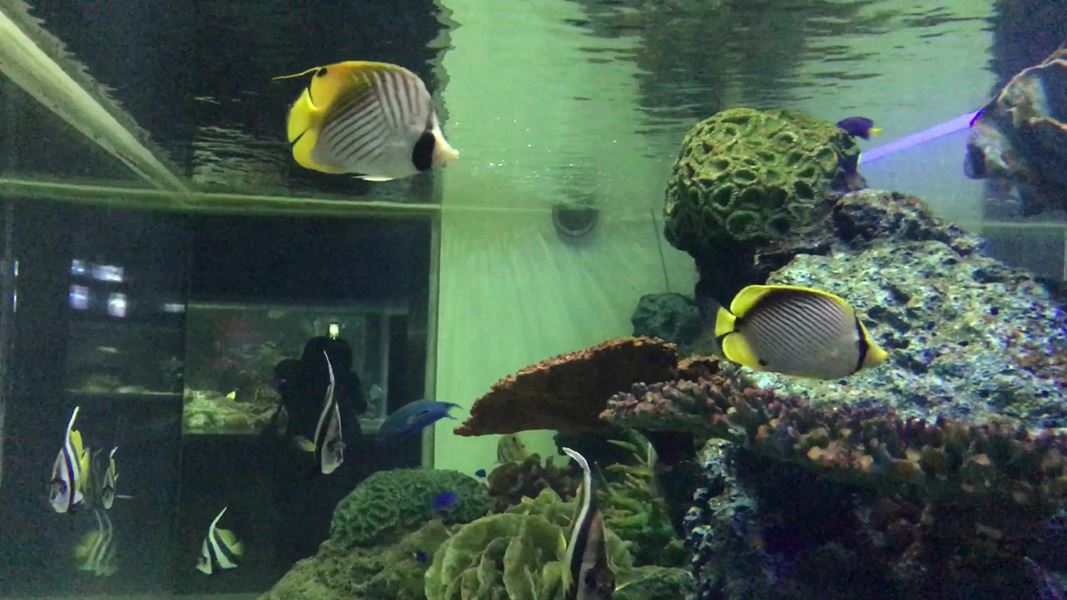Black-backed butterflyfish: (690, 274, 898, 387)
